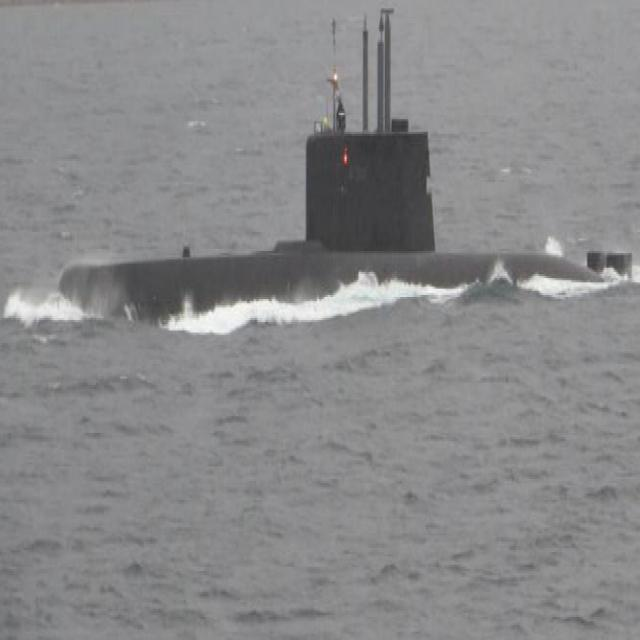submarine: (46, 1, 620, 340)
